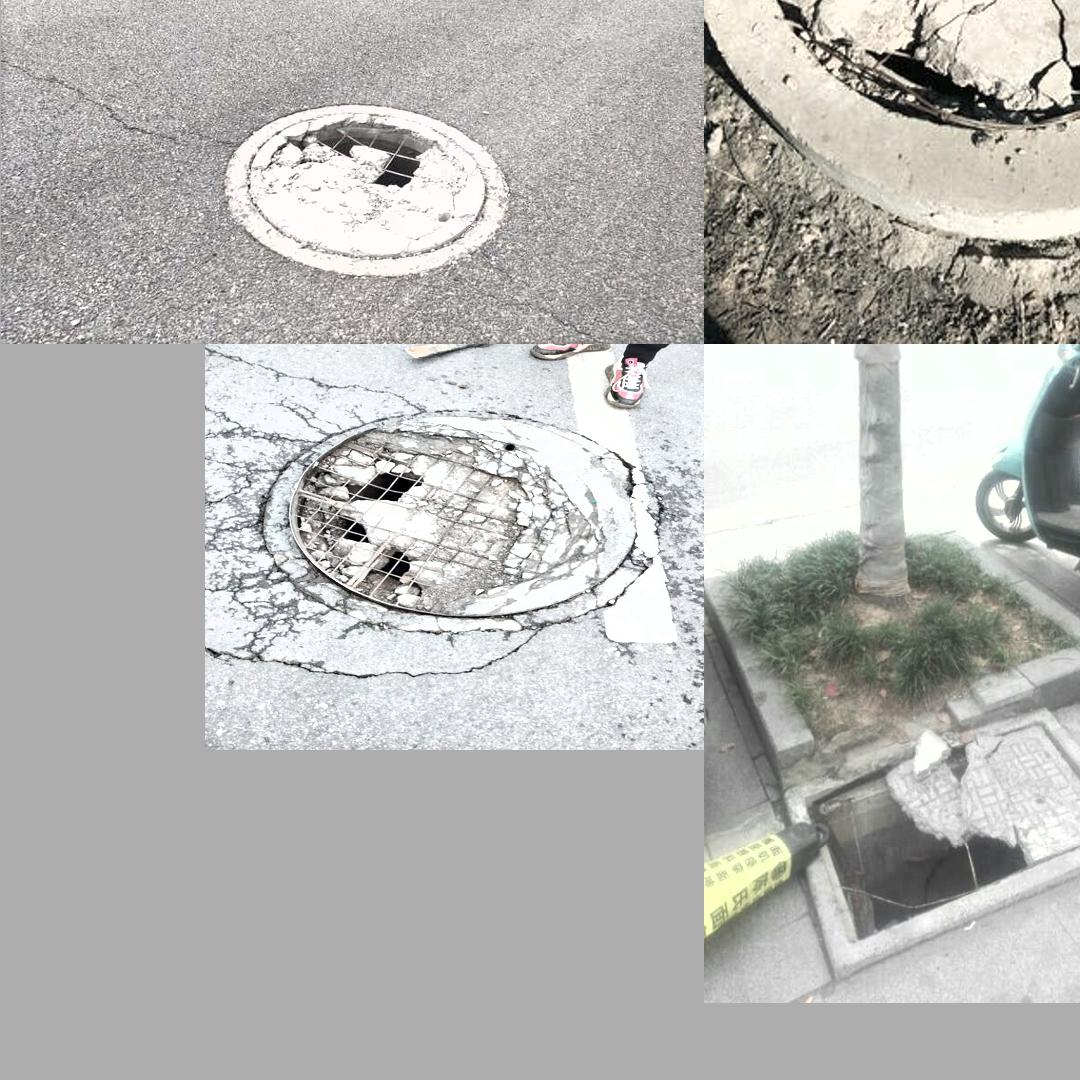broke: (722, 0, 1080, 227), (286, 410, 656, 623), (806, 719, 1080, 944), (220, 100, 514, 281)
